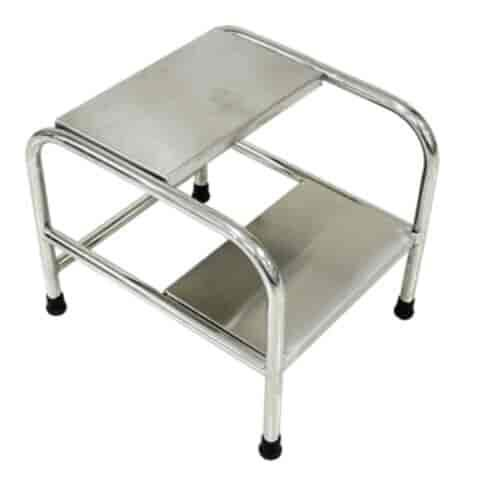stool: (19, 5, 481, 479)
